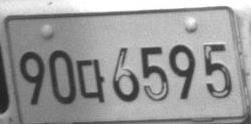0: (48, 49, 77, 104)
5: (202, 43, 233, 99), (140, 45, 170, 101)
6: (111, 46, 140, 102)
9: (19, 50, 46, 105), (169, 44, 195, 100)
다: (78, 58, 106, 104)
